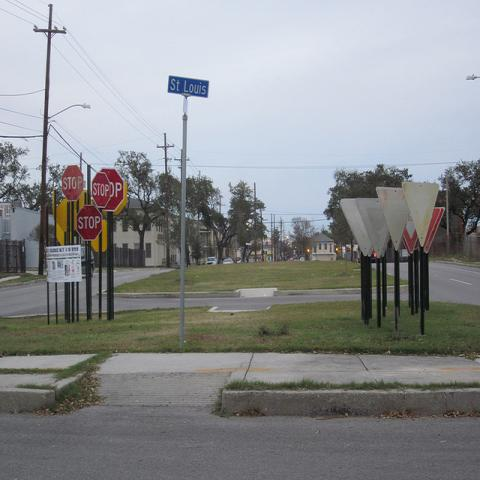car: (205, 257, 218, 264), (222, 259, 234, 264)
